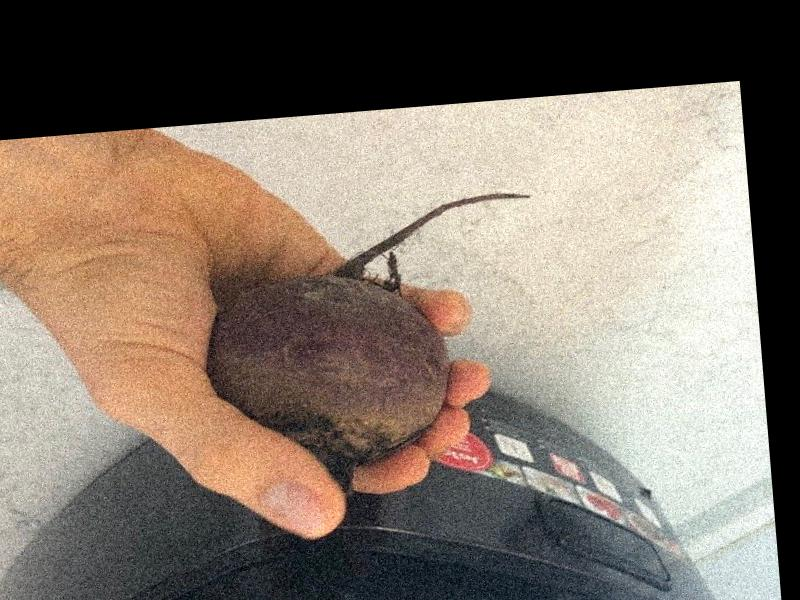Beet: (196, 191, 552, 503)
